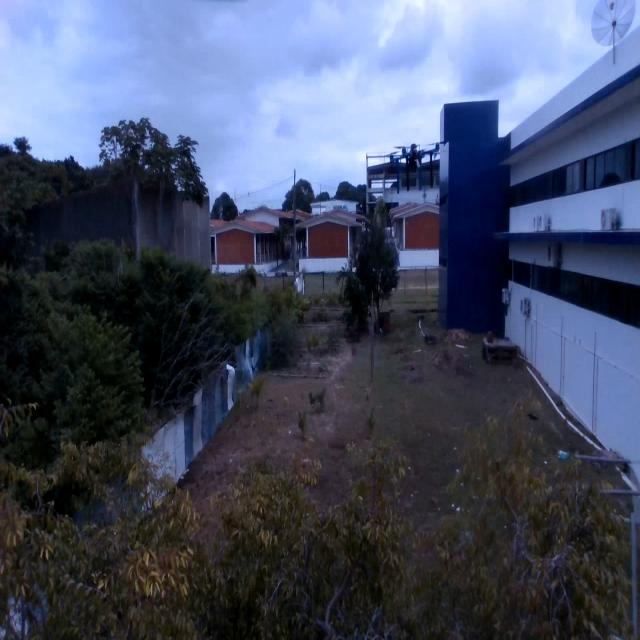-uav-: (384, 132, 439, 200)
